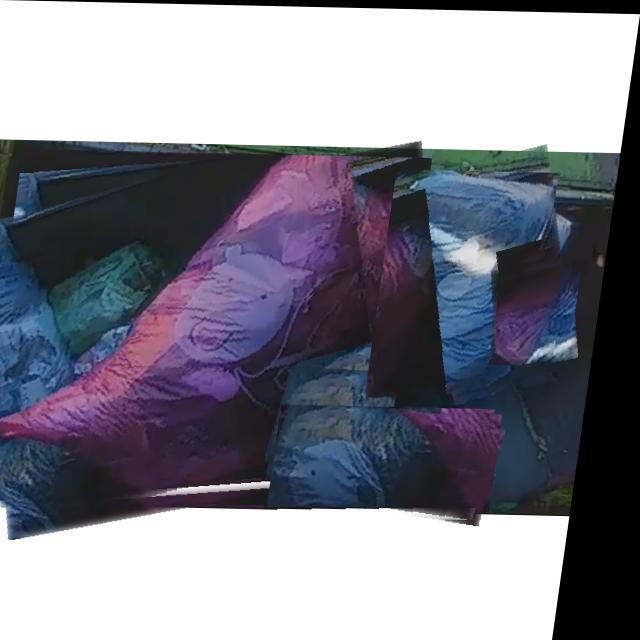general_trashbag: (284, 248, 387, 338)
other_trashbag: (10, 154, 435, 500), (378, 168, 561, 393), (287, 404, 490, 519), (504, 262, 579, 363)
